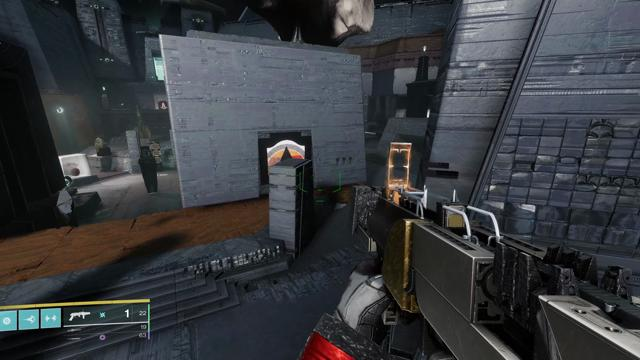pyramid: (267, 139, 305, 175)
